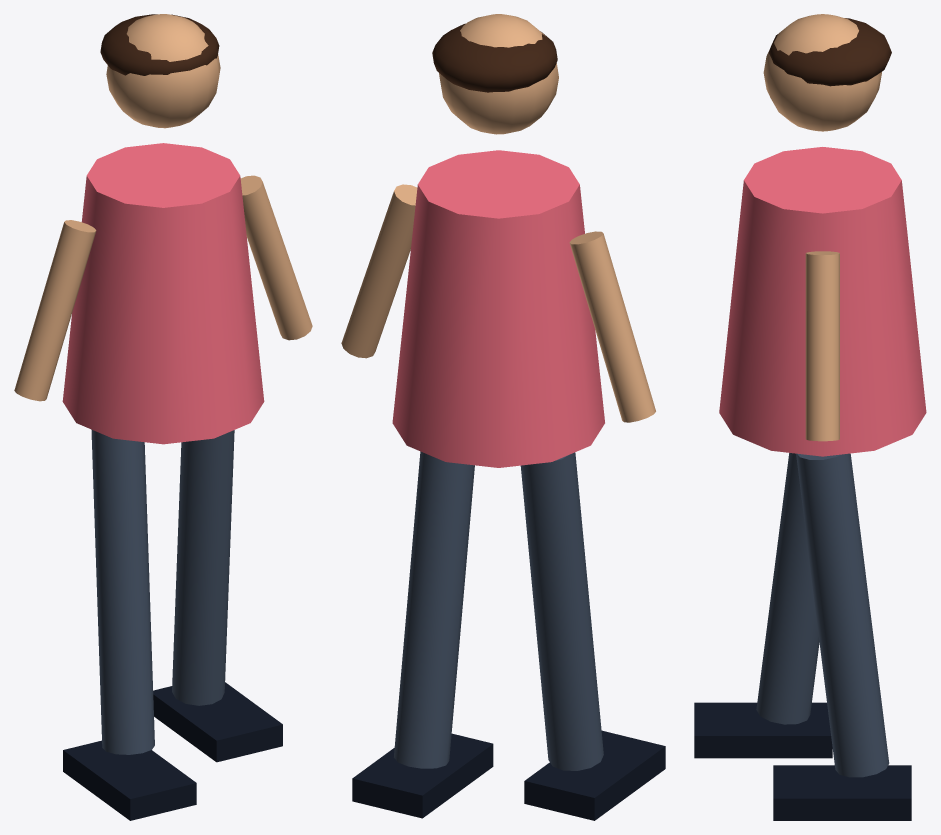
The picture shows the model from 3 angles, left to right: view 1: azimuth 30°, elevation 25°; view 2: azimuth 150°, elevation 25°; view 3: azimuth 270°, elevation 25°; orthographic projection. The views are drawn at different scales.
Visible parts, largest first — view 1: person-standing-casual; view 2: person-standing-casual; view 3: person-standing-casual.
Boxes of the visible parts, x1,y1,x2,y2 form: person-standing-casual: (14,14,312,820); person-standing-casual: (341,14,665,820); person-standing-casual: (694,14,926,820).
Bounding box in the file's own units: 0.6981 × 1.67 × 0.4645.
